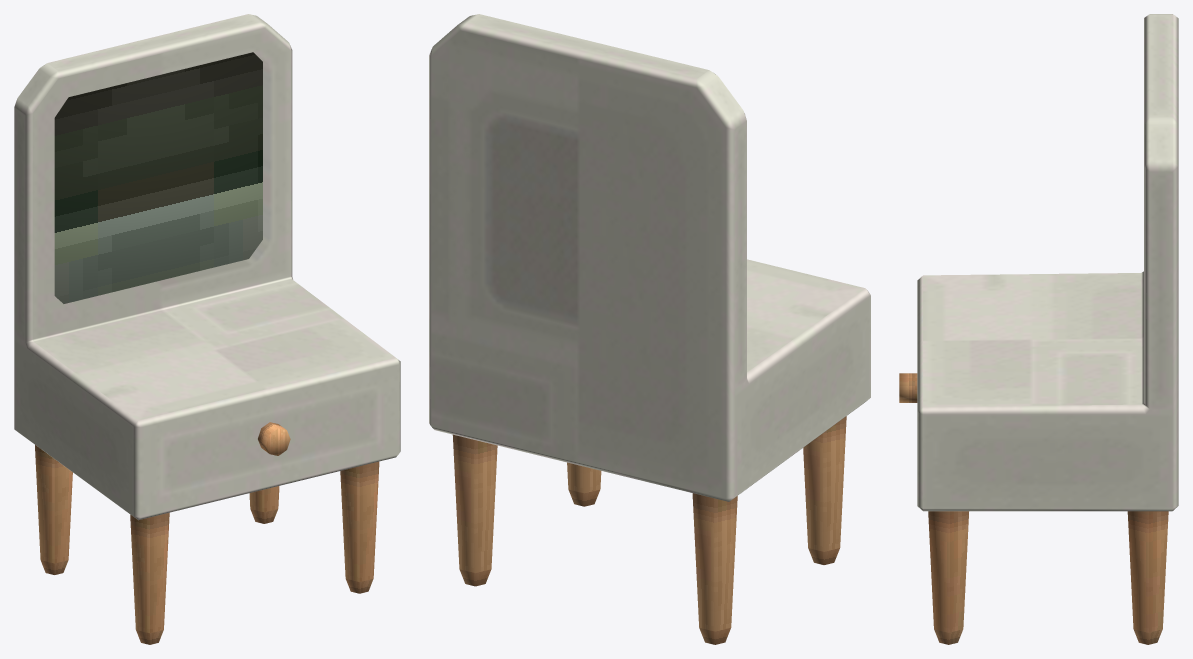
The model's file is rmk_smp_dresser.dae.
3 renders of one model, left to right at view 1: azimuth 30°, elevation 25°; view 2: azimuth 150°, elevation 25°; view 3: azimuth 270°, elevation 25°, orthographic. The views are drawn at different scales.
Parts seen in each view (by area): view 1: rmk_smp_dresser; view 2: rmk_smp_dresser; view 3: rmk_smp_dresser.
Boxes of the visible parts, <box> form: rmk_smp_dresser: <box>14,14,400,644</box>; rmk_smp_dresser: <box>429,14,870,644</box>; rmk_smp_dresser: <box>899,14,1178,644</box>.
Size of the model in its own units: 24.16 by 43.01 by 20.87.
Materials: 3 (3 with a texture image).
